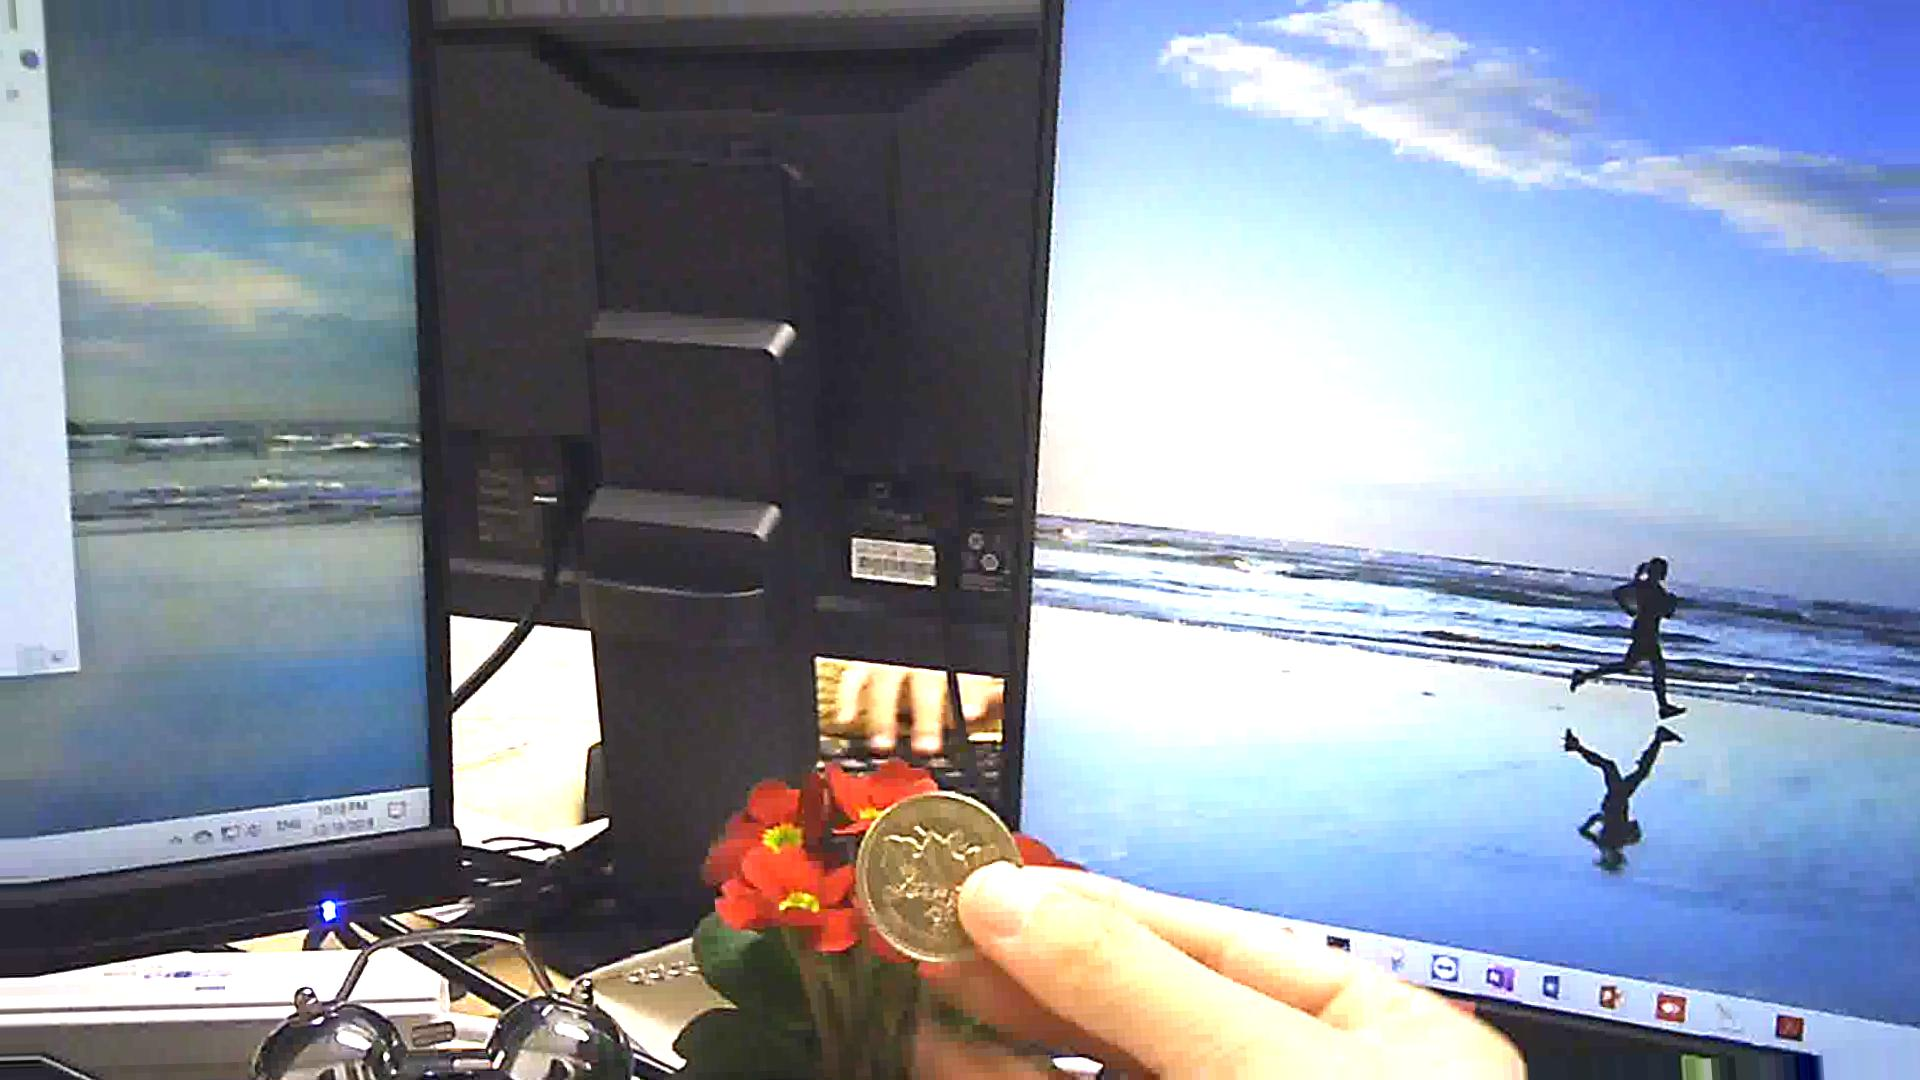500 Yen: (847, 765, 1029, 961)
